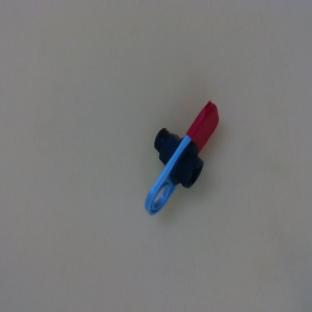part_1_good: (131, 89, 223, 225)
